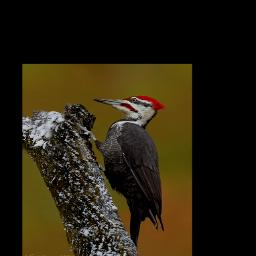Woodpecker: (78, 95, 166, 252)
